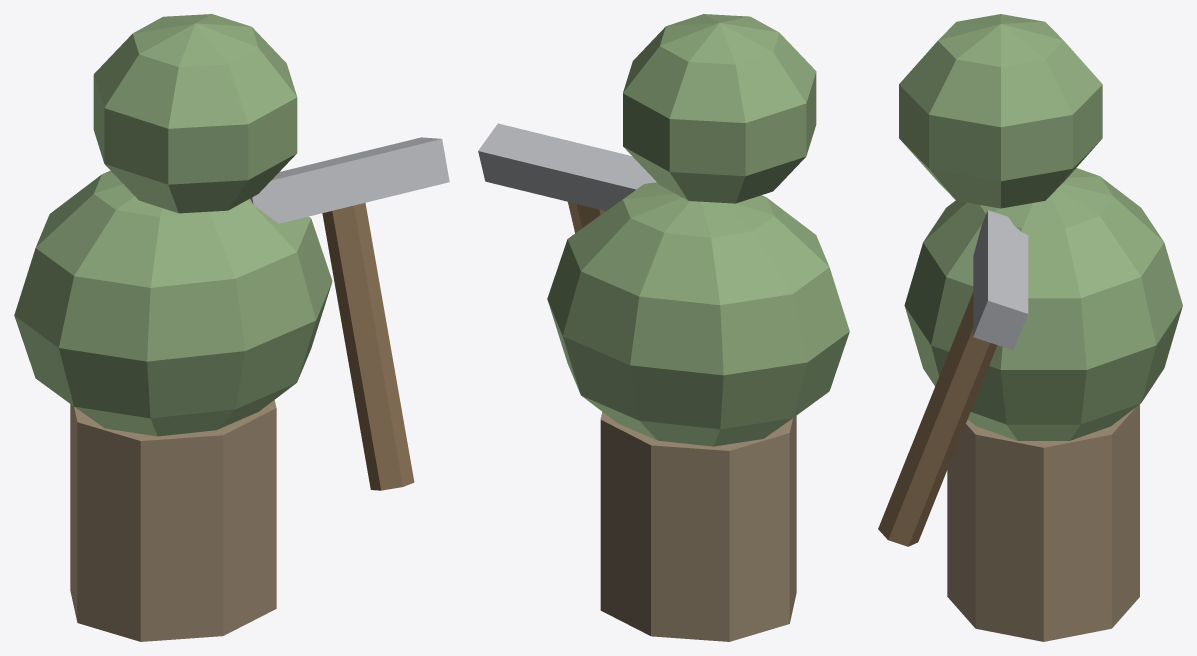
The model's file is orc_peon.glb.
3 views of the same model, side by side, from view 1: azimuth 30°, elevation 25°; view 2: azimuth 150°, elevation 25°; view 3: azimuth 270°, elevation 25° (orthographic). The views are drawn at different scales.
Parts seen in each view (by area): view 1: BodyMesh, ArmMesh; view 2: BodyMesh, ArmMesh; view 3: BodyMesh, ArmMesh.
Part boxes in pixels (left/top/right/bottom): BodyMesh: left=14, top=14, right=332, bottom=641; ArmMesh: left=250, top=137, right=449, bottom=490; BodyMesh: left=547, top=14, right=849, bottom=641; ArmMesh: left=478, top=123, right=656, bottom=233; BodyMesh: left=899, top=14, right=1182, bottom=641; ArmMesh: left=878, top=210, right=1028, bottom=546.
Size of the model in its own units: 0.3927 by 0.59 by 0.2847.
